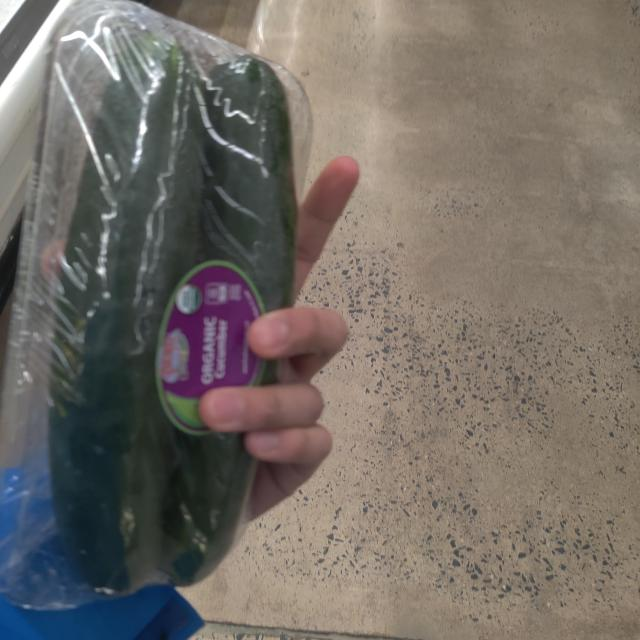Cucumber: (32, 2, 308, 597)
